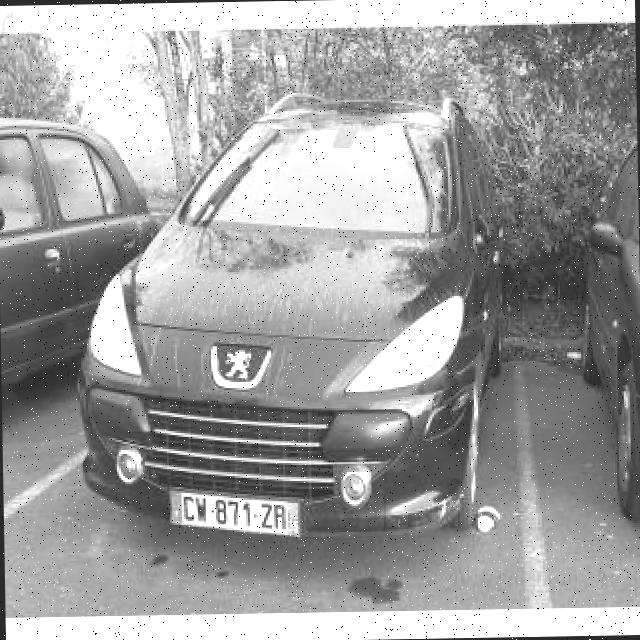EU: (166, 487, 303, 541)
France: (168, 489, 182, 526)
